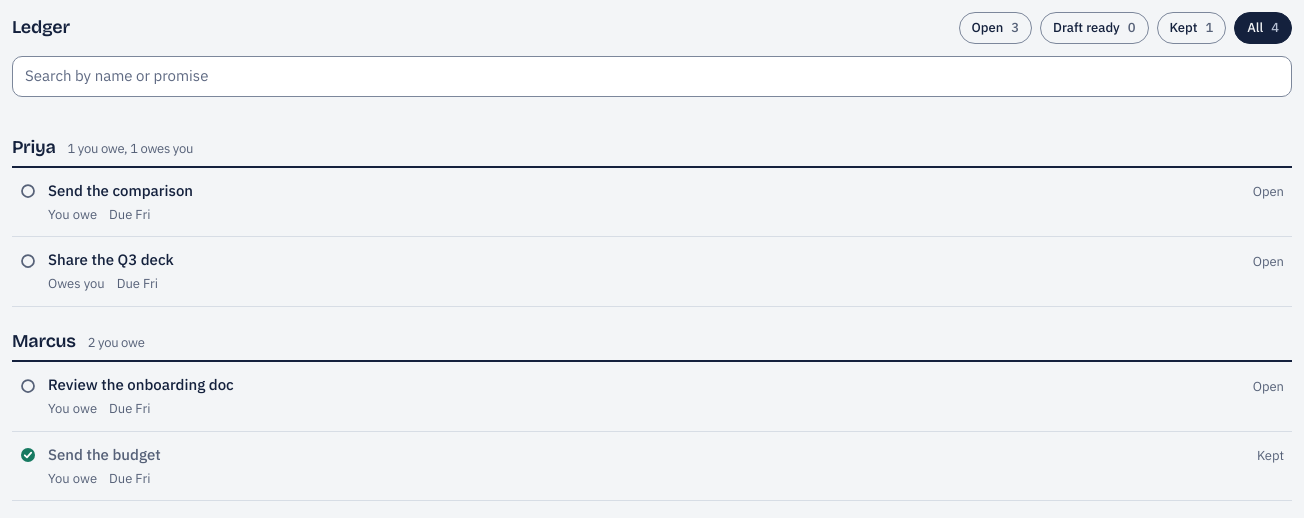
Scenario: Ledger search › recounts the filter chips for what matches, and announces the result
Expected: the button "Kept 1" is shown, 1157,12 -> 1226,44
Type "priya" into the search field at (652, 76), box 12,56 -> 1292,96
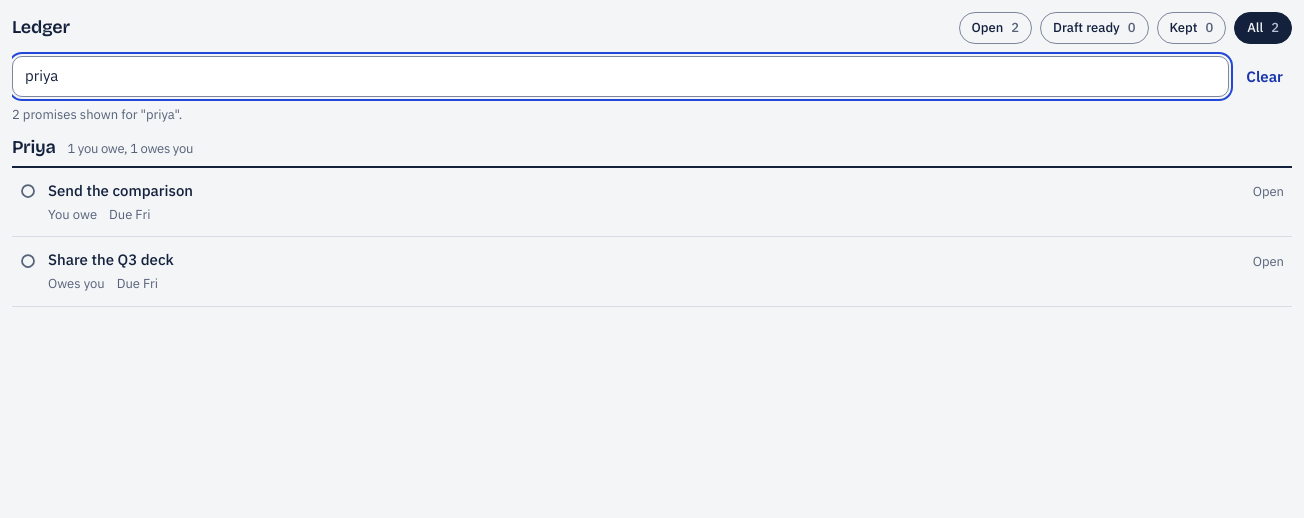
Expected: the button "Kept 0" is shown, 1157,12 -> 1226,44
Expected: the button "All 2" is shown, 1234,12 -> 1292,44
Expected: the message reads "2 promises shown for \"priya\".", 12,106 -> 182,122
